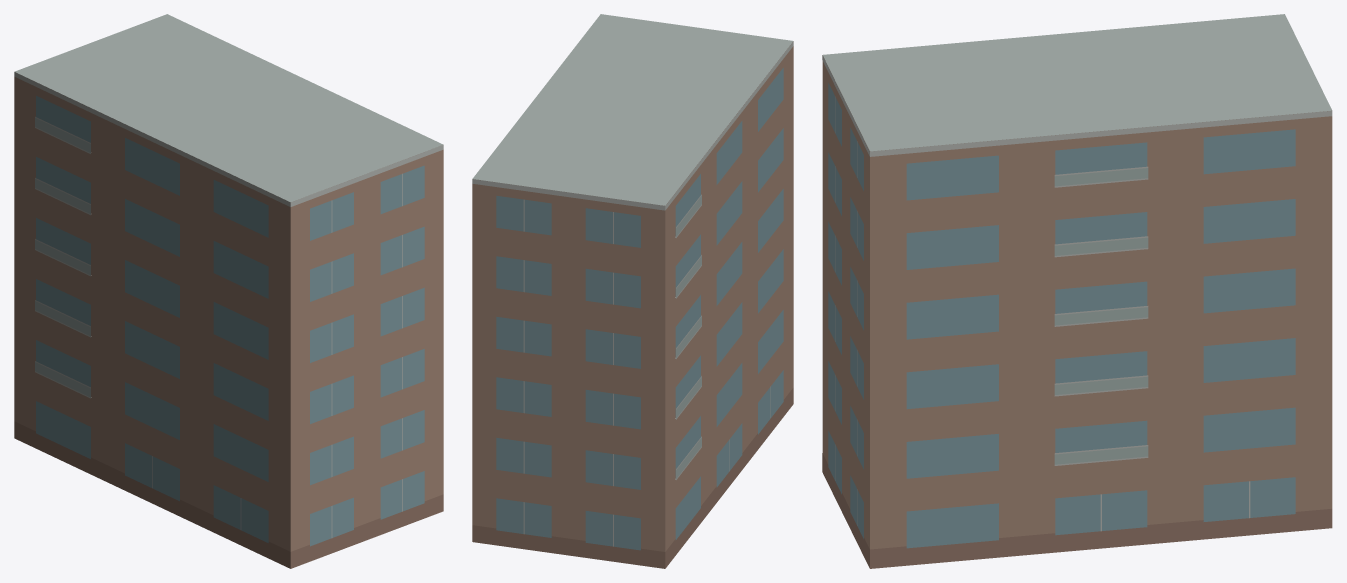
Rendered from survey-upis-32498340.glb.
3 renders of one model, left to right at view 1: azimuth 30°, elevation 25°; view 2: azimuth 150°, elevation 25°; view 3: azimuth 270°, elevation 25°, orthographic. The views are drawn at different scales.
Parts seen in each view (by area): view 1: survey-upis-32498340.tmp; view 2: survey-upis-32498340.tmp; view 3: survey-upis-32498340.tmp.
Part boxes in pixels (x1=…): survey-upis-32498340.tmp: x1=14, y1=14, x2=443, y2=568; survey-upis-32498340.tmp: x1=472, y1=14, x2=793, y2=568; survey-upis-32498340.tmp: x1=822, y1=14, x2=1332, y2=568.
Size of the model in its own units: 13.11 by 18.55 by 20.55.
